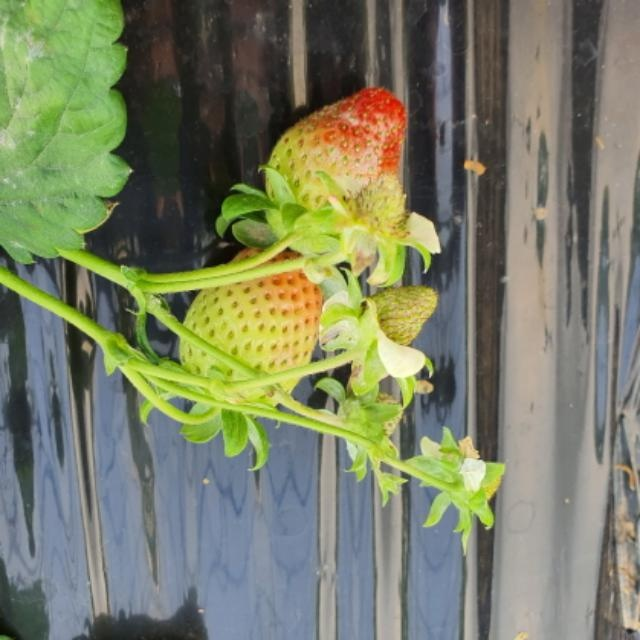Powdery Mildew Fruit: (304, 85, 411, 184)
